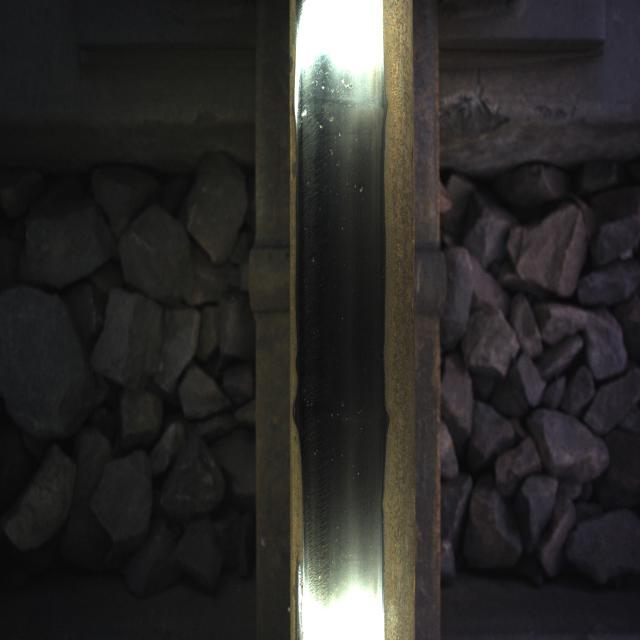normal: (295, 29, 381, 470)
